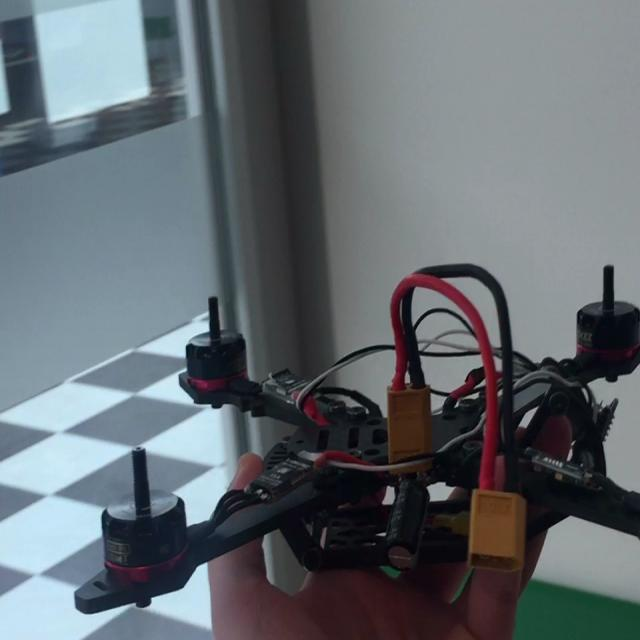drone: (84, 241, 640, 614)
